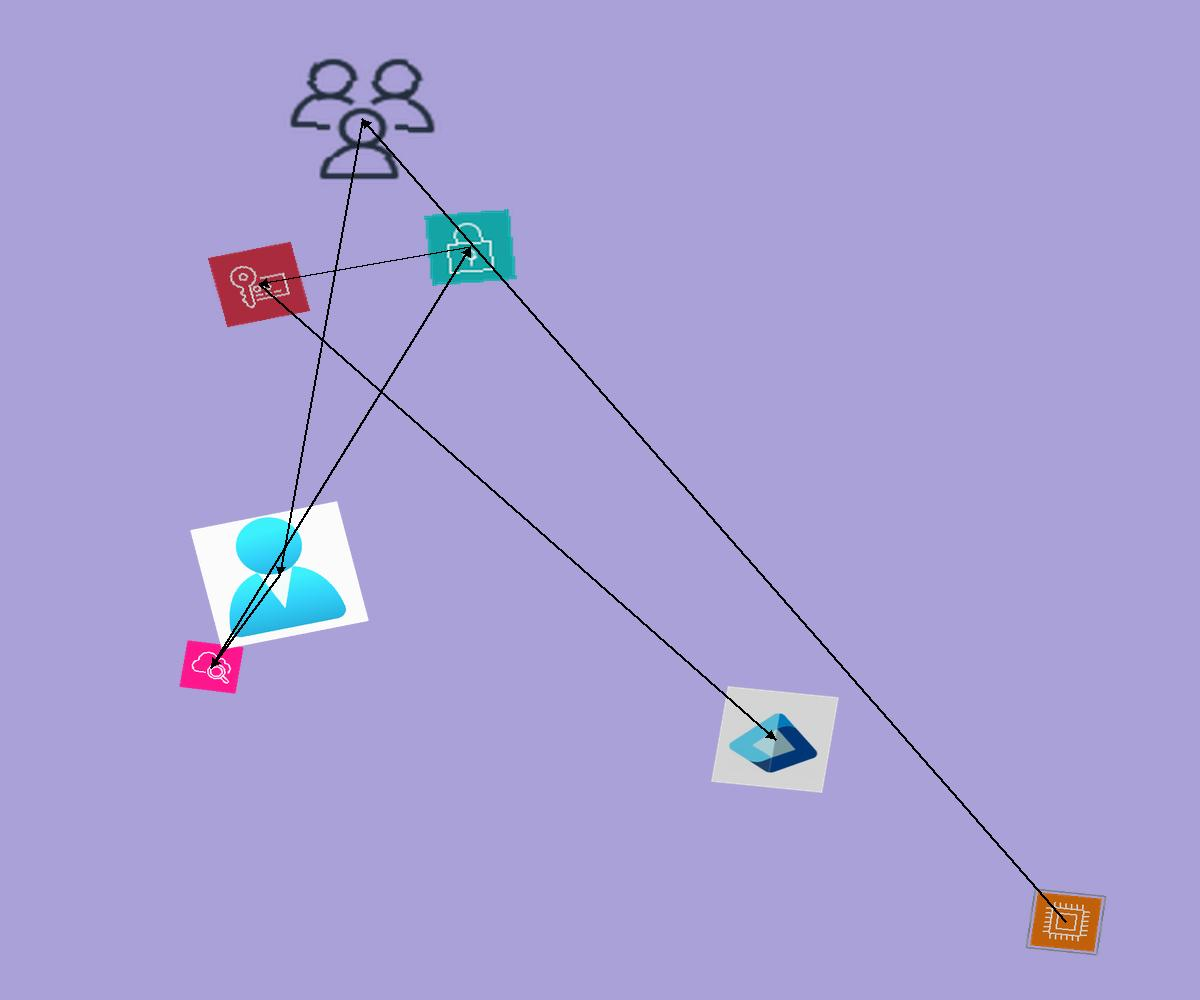AWS-Category_Compute: (1025, 888, 1107, 956)
AWS-CloudWatch: (179, 640, 244, 694)
AWS-Key-Management-Service: (207, 241, 311, 328)
AWS-Private-subnet: (424, 209, 517, 286)
AWS-Res_Users: (281, 51, 444, 187)
Azure_microsoft_entra: (711, 686, 839, 793)
Azure_users: (190, 501, 369, 650)
